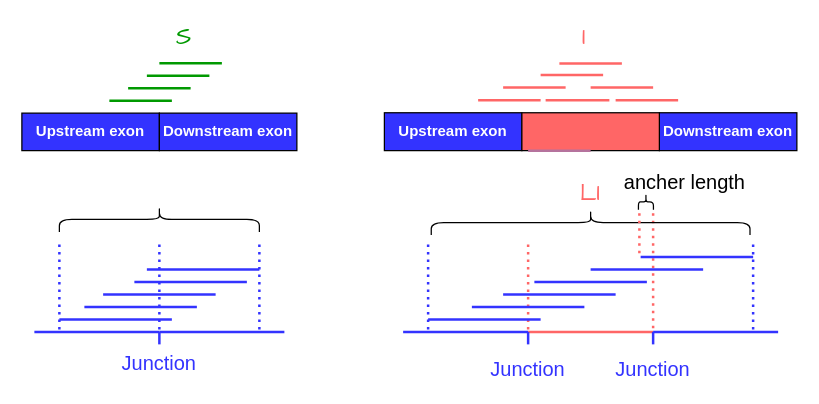
The diagram is 819 pixels wide and 404 high, and some of its shapes have lost their labels. The shapes that lost their labels are listed below. From the top down, each one's centre as x and y in pixels, then its label:
the point at 590,131: Skipped Exon
the point at 158,219: LS
